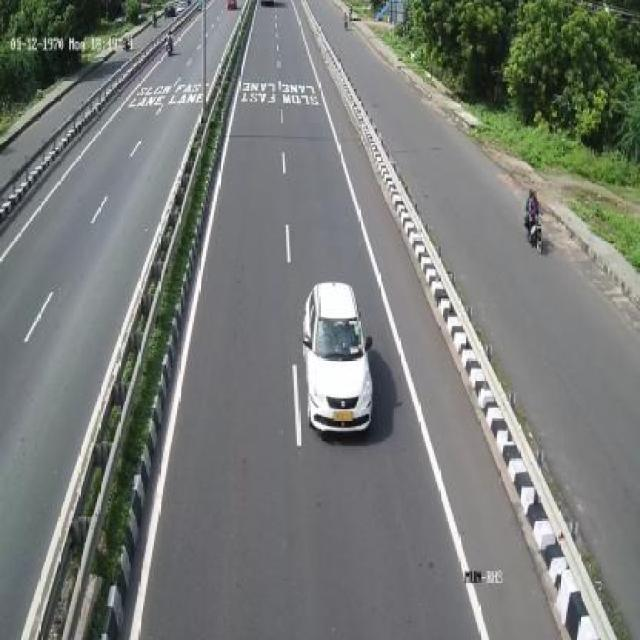car: (304, 272, 376, 440)
